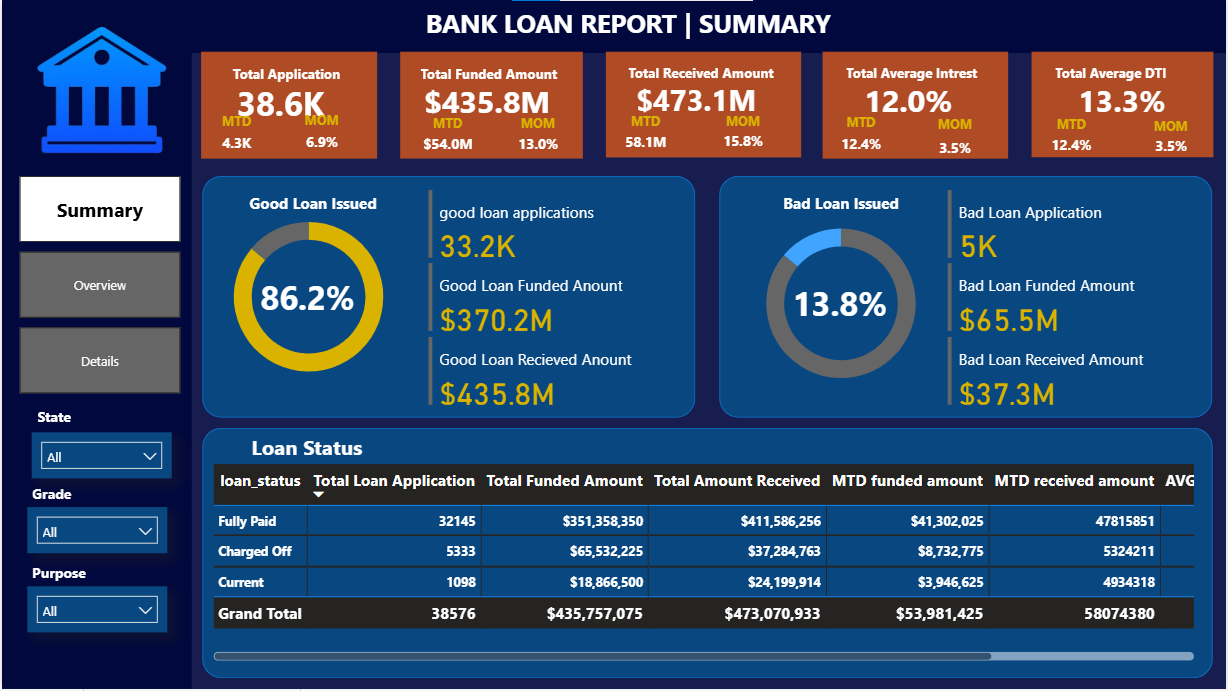

The dashboard page shown, as its layout file describes it:
{"tool":"powerbi","page":{"name":"Summary","canvas":[1280,720],"ordinal":0},"visuals":[{"type":"shape","box":[0,0,1279.8,55.3],"z":0},{"type":"textbox","box":[1095.1,61.1,174.8,29.7],"z":0,"group":"g3"},{"type":"textbox","box":[877,61.2,165.9,29.7],"z":0,"group":"g4"},{"type":"textbox","box":[432.1,61.6,173.1,29.7],"z":0,"group":"g5"},{"type":"textbox","box":[210.9,62,174.3,35.4],"z":0,"group":"g6"},{"type":"textbox","box":[649.2,62,175.7,29.8],"z":0,"group":"g7"},{"type":"shape","box":[0,55.3,198,664.7],"z":1000},{"type":"card","title":"MTD","fields":{"Values":["bank_loan.MTD loan applications"]},"box":[216.6,117.3,58.1,55.3],"z":1000,"group":"g6"},{"type":"card","title":"MTD","fields":{"Values":["bank_loan.MTD received amount"]},"box":[641,118.7,62.4,52.4],"z":1000,"group":"g7"},{"type":"card","title":"MTD","fields":{"Values":["bank_loan.MTD funded amount"]},"box":[429.1,119,73.7,52.4],"z":1000,"group":"g5"},{"type":"card","title":"MTD","fields":{"Values":["bank_loan.MTD avg intrest rate"]},"box":[868.1,119.1,59.5,53.9],"z":1000,"group":"g4"},{"type":"card","title":"MTD","fields":{"Values":["bank_loan.MTD avg intrest rate"]},"box":[1086.1,120.5,62.4,52.4],"z":1000,"group":"g3"},{"type":"textbox","box":[432.5,0,444.2,55.5],"z":2000},{"type":"card","title":"MOM","fields":{"Values":["bank_loan.MOM loan application"]},"box":[304.5,115.9,60.9,55.3],"z":2000,"group":"g6"},{"type":"card","title":"MOM","fields":{"Values":["bank_loan.MOM Received Amount"]},"box":[740.2,118.7,68,51],"z":2000,"group":"g7"},{"type":"card","title":"MOM","fields":{"Values":["bank_loan.MOM Funded Amount"]},"box":[525.4,119,69.4,52.4],"z":2000,"group":"g5"},{"type":"card","title":"MOM","fields":{"Values":["bank_loan.MOM AVG Intrest"]},"box":[967.3,120.5,58.1,58.1],"z":2000,"group":"g4"},{"type":"card","title":"MOM","fields":{"Values":["bank_loan.MOM AVG Intrest"]},"box":[1190.8,121.9,60.9,51],"z":2000,"group":"g3"},{"type":"group","id":"g1","title":"Group 2","box":[208.3,53.9,184.3,118.7],"z":3000},{"type":"shape","box":[208.3,53.9,184.3,112],"z":3000,"group":"g1"},{"type":"shape","box":[416,53.9,191.3,112],"z":3000,"group":"g2"},{"type":"shape","box":[858.2,53.9,194.2,112],"z":3000,"group":"g9"},{"type":"shape","box":[630.7,54.6,204.1,110.6],"z":3000,"group":"g8"},{"type":"shape","box":[1075.7,54.6,190.4,110.6],"z":3000,"group":"g10"},{"type":"card","fields":{"Values":["bank_loan.AVG intrest Rate"]},"box":[867.9,87.6,159.5,35.1],"z":4000,"group":"g9"},{"type":"card","fields":{"Values":["bank_loan.Total AVG DTI"]},"box":[1085.6,87.6,168.1,35.1],"z":4000,"group":"g10"},{"type":"card","fields":{"Values":["bank_loan.Total Amount Received"]},"box":[640.9,87.9,167.6,34.6],"z":4000,"group":"g8"},{"type":"card","fields":{"Values":["bank_loan.Total Funded Amount"]},"box":[422.7,88,166.5,35.1],"z":4000,"group":"g2"},{"type":"card","fields":{"Values":["bank_loan.Total Loan Application"]},"box":[213.5,88.1,154.5,38.3],"z":4000,"group":"g1"},{"type":"shape","box":[208.9,184.1,515.8,252.8],"z":4000},{"type":"group","id":"g2","title":"Group 2","box":[416,53.9,191.3,117.5],"z":5000},{"type":"group","id":"g3","title":"Group 1","box":[1086.1,61.1,183.8,111.9],"z":5003,"group":"g10"},{"type":"group","id":"g4","title":"Group 1","box":[868.1,61.2,174.7,117.5],"z":5003,"group":"g9"},{"type":"group","id":"g5","title":"Group 1","box":[429.1,61.6,176.2,109.8],"z":5003,"group":"g2"},{"type":"group","id":"g6","title":"Group 1","box":[210.9,62,174.3,110.6],"z":5003,"group":"g1"},{"type":"group","id":"g7","title":"Group 1","box":[641,62,183.9,109.1],"z":5003,"group":"g8"},{"type":"group","id":"g8","title":"Group 2","box":[630.7,54.6,204.1,116.6],"z":6000},{"type":"group","id":"g9","title":"Group 2","box":[858.2,53.9,194.2,124.7],"z":7000},{"type":"group","id":"g10","title":"Group 2","box":[1075.7,54.6,194.2,118.4],"z":8000},{"type":"donutChart","fields":{"Category":["bank_loan.Good Vs Bad Loan"],"Y":["bank_loan.Total Loan Application"]},"box":[208.9,207.5,222.1,206],"z":9000},{"type":"textbox","box":[245.5,195.8,160.7,35.1],"z":10000},{"type":"card","fields":{"Values":["bank_loan.Good loan"]},"box":[264.5,290.8,109.6,39.5],"z":11000},{"type":"cardVisual","fields":{"Data":["bank_loan.good loan applications","bank_loan.Good Loan Funded Anount","bank_loan.Good Loan Recieved Anount"]},"box":[439.8,192.9,264.5,235.3],"z":12000},{"type":"shape","box":[749.6,184.1,515.8,252.8],"z":13000},{"type":"donutChart","fields":{"Category":["bank_loan.Good Vs Bad Loan"],"Y":["bank_loan.Total Loan Application"]},"box":[765.7,213.3,222.1,206],"z":14000},{"type":"textbox","box":[796.3,195.8,160.7,35.1],"z":15000},{"type":"cardVisual","fields":{"Data":["bank_loan.Bad Loan Application","bank_loan.Bad Loan Funded Amount","bank_loan.Bad Loan Received Amount"]},"box":[983.4,192.9,264.5,235.3],"z":16000},{"type":"card","fields":{"Values":["bank_loan.bad loan %"]},"box":[821.2,296.6,109.6,39.5],"z":17000},{"type":"shape","box":[208.9,447.1,1056.4,261.6],"z":18000},{"type":"tableEx","fields":{"Values":["bank_loan.loan_status","bank_loan.Total Loan Application","bank_loan.Total Funded Amount","bank_loan.Total Amount Received","bank_loan.MTD funded amount","bank_loan.MTD received amount","bank_loan.AVG intrest Rate","bank_loan.MTD avg intrest rate"]},"box":[215.4,476.2,1036.1,221.1],"z":19000},{"type":"textbox","box":[245.5,447.1,147.6,45.3],"z":20000},{"type":"textbox","box":[32.6,419.5,72.3,31.2],"z":21000},{"type":"textbox","box":[26.9,500.3,72.3,29.8],"z":24000},{"type":"textbox","box":[26.9,582.5,72.3,29.8],"z":25000},{"type":"slicer","fields":{"Values":["bank_loan.address_state"]},"box":[31.2,452.1,146,48.2],"z":26000},{"type":"slicer","fields":{"Values":["bank_loan.grade"]},"box":[26.9,530.1,146,48.2],"z":26500},{"type":"slicer","fields":{"Values":["bank_loan.purpose"]},"box":[26.9,612.3,146,48.2],"z":27000},{"type":"image","box":[1.4,0,206.9,192.8],"z":27501},{"type":"pageNavigator","box":[18.4,184.3,168.7,228.2],"z":27502}]}

Visuals, with their boxes in screenshot pixels (x1, y1, x2, y2), scaled from the page's 1280x720 canvas onto the 1228x691 screenshot:
shape: Rect(0, 0, 1227, 53)
textbox: Rect(1051, 59, 1218, 87)
textbox: Rect(841, 59, 1001, 87)
textbox: Rect(415, 59, 581, 88)
textbox: Rect(202, 60, 370, 93)
textbox: Rect(623, 60, 791, 88)
shape: Rect(0, 53, 190, 690)
"MTD" card: Rect(208, 113, 264, 166)
"MTD" card: Rect(615, 114, 675, 164)
"MTD" card: Rect(412, 114, 482, 164)
"MTD" card: Rect(833, 114, 890, 166)
"MTD" card: Rect(1042, 116, 1102, 166)
textbox: Rect(415, 0, 841, 53)
"MOM" card: Rect(292, 111, 351, 164)
"MOM" card: Rect(710, 114, 775, 163)
"MOM" card: Rect(504, 114, 571, 164)
"MOM" card: Rect(928, 116, 984, 171)
"MOM" card: Rect(1142, 117, 1201, 166)
"Group 2" group: Rect(200, 52, 377, 166)
shape: Rect(200, 52, 377, 159)
shape: Rect(399, 52, 583, 159)
shape: Rect(823, 52, 1010, 159)
shape: Rect(605, 52, 801, 159)
shape: Rect(1032, 52, 1215, 159)
card - bank_loan.AVG intrest Rate: Rect(833, 84, 986, 118)
card - bank_loan.Total AVG DTI: Rect(1041, 84, 1203, 118)
card - bank_loan.Total Amount Received: Rect(615, 84, 776, 118)
card - bank_loan.Total Funded Amount: Rect(406, 84, 565, 118)
card - bank_loan.Total Loan Application: Rect(205, 85, 353, 121)
shape: Rect(200, 177, 695, 419)
"Group 2" group: Rect(399, 52, 583, 164)
"Group 1" group: Rect(1042, 59, 1218, 166)
"Group 1" group: Rect(833, 59, 1000, 172)
"Group 1" group: Rect(412, 59, 581, 164)
"Group 1" group: Rect(202, 60, 370, 166)
"Group 1" group: Rect(615, 60, 791, 164)
"Group 2" group: Rect(605, 52, 801, 164)
"Group 2" group: Rect(823, 52, 1010, 171)
"Group 2" group: Rect(1032, 52, 1218, 166)
donutChart - bank_loan.Good Vs Bad Loan x bank_loan.Total Loan Application: Rect(200, 199, 413, 397)
textbox: Rect(236, 188, 390, 222)
card - bank_loan.Good loan: Rect(254, 279, 359, 317)
cardVisual - bank_loan.good loan applications x bank_loan.Good Loan Funded Anount: Rect(422, 185, 676, 411)
shape: Rect(719, 177, 1214, 419)
donutChart - bank_loan.Good Vs Bad Loan x bank_loan.Total Loan Application: Rect(735, 205, 948, 402)
textbox: Rect(764, 188, 918, 222)
cardVisual - bank_loan.Bad Loan Application x bank_loan.Bad Loan Funded Amount: Rect(943, 185, 1197, 411)
card - bank_loan.bad loan %: Rect(788, 285, 893, 323)
shape: Rect(200, 429, 1214, 680)
tableEx - bank_loan.loan_status x bank_loan.Total Loan Application: Rect(207, 457, 1201, 669)
textbox: Rect(236, 429, 377, 473)
textbox: Rect(31, 403, 101, 433)
textbox: Rect(26, 480, 95, 509)
textbox: Rect(26, 559, 95, 588)
slicer - bank_loan.address_state: Rect(30, 434, 170, 480)
slicer - bank_loan.grade: Rect(26, 509, 166, 555)
slicer - bank_loan.purpose: Rect(26, 588, 166, 634)
image: Rect(1, 0, 200, 185)
pageNavigator: Rect(18, 177, 179, 396)
